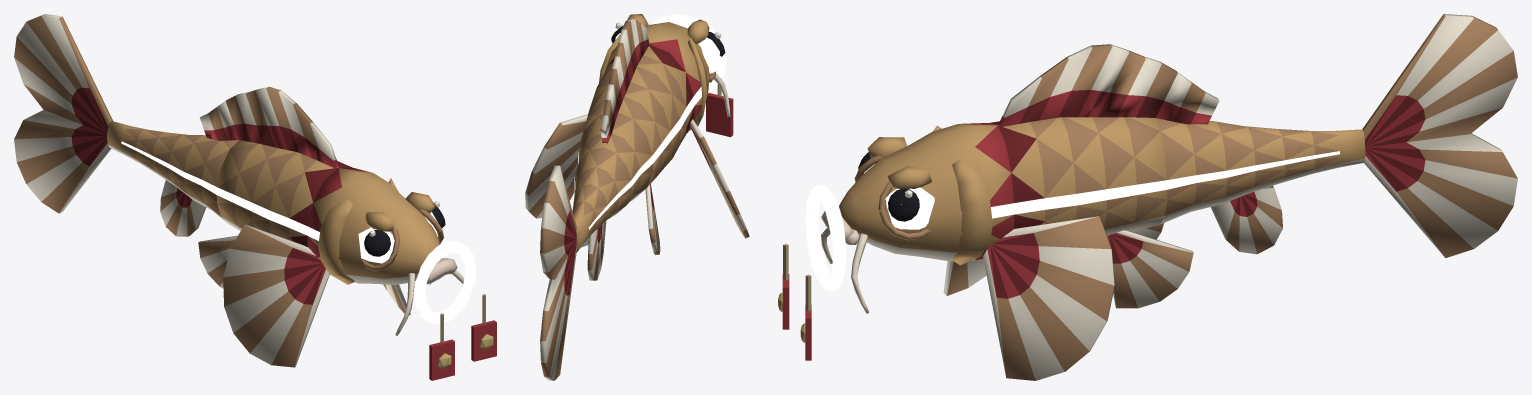
File: carp-ring-bearer.glb
The picture shows the model from 3 angles, left to right: view 1: azimuth 30°, elevation 25°; view 2: azimuth 150°, elevation 25°; view 3: azimuth 270°, elevation 25°; orthographic projection. The views are drawn at different scales.
Visible parts, largest first — view 1: wag_body_0, wag_body_2, glide_fin_r, carp_head, wag_body_1, pulse_ring, sway_seal, pulse_gill_r, blink_eye_r; view 2: wag_body_0, wag_body_1, wag_body_2, glide_fin_l, carp_head, glide_fin_r, sway_seal, blink_eye_r, pulse_ring, pulse_gill_r, sway_barbel_r, pulse_gill_l; view 3: wag_body_0, wag_body_2, wag_body_1, glide_fin_l, carp_head, pulse_ring, pulse_gill_l, blink_eye_l, sway_seal, glide_fin_r.
Part boxes in pixels (box(x1,y1,x2,y2)): wag_body_0: box(198, 86, 351, 288); wag_body_2: box(14, 14, 112, 213); glide_fin_r: box(223, 224, 329, 367); carp_head: box(307, 167, 457, 284); wag_body_1: box(107, 101, 239, 236); pulse_ring: box(414, 241, 475, 323); sway_seal: box(429, 294, 496, 380); pulse_gill_r: box(318, 198, 354, 284); blink_eye_r: box(358, 227, 394, 263); wag_body_0: box(579, 19, 694, 255); wag_body_1: box(572, 84, 653, 280); wag_body_2: box(540, 165, 576, 380); glide_fin_l: box(525, 114, 587, 218); carp_head: box(604, 14, 715, 132); glide_fin_r: box(690, 119, 749, 238); sway_seal: box(706, 78, 733, 137); blink_eye_r: box(698, 32, 725, 73); pulse_ring: box(650, 14, 726, 93); pulse_gill_r: box(687, 38, 708, 130); sway_barbel_r: box(713, 73, 730, 117); pulse_gill_l: box(599, 34, 620, 82); wag_body_0: box(990, 44, 1193, 308); wag_body_2: box(1362, 14, 1517, 258); wag_body_1: box(1155, 71, 1365, 254); glide_fin_l: box(983, 216, 1114, 380); carp_head: box(821, 123, 1014, 261); pulse_ring: box(805, 185, 846, 290); pulse_gill_l: box(951, 158, 992, 265); blink_eye_l: box(885, 187, 934, 229); sway_seal: box(778, 244, 811, 360); glide_fin_r: box(943, 258, 986, 295).
Bounding box in the file's own units: 0.286 × 0.3125 × 0.7594.
